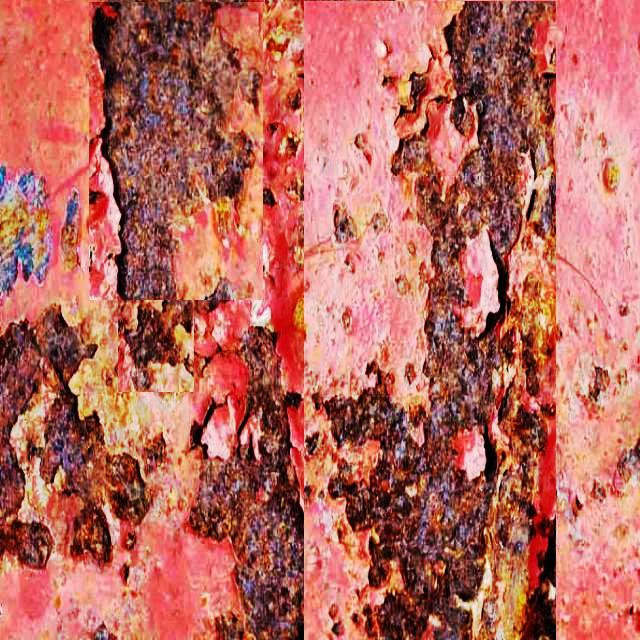Corrosion: (94, 0, 259, 300), (324, 377, 504, 640), (0, 310, 149, 570), (394, 133, 501, 481), (190, 327, 303, 640), (446, 2, 556, 256), (472, 387, 557, 640), (0, 323, 88, 526), (495, 273, 556, 404), (118, 303, 194, 392), (35, 308, 95, 384), (204, 277, 234, 310), (265, 25, 293, 59), (589, 367, 611, 410), (619, 441, 640, 484), (334, 205, 357, 244), (279, 132, 301, 158), (355, 133, 371, 162), (371, 212, 389, 232), (286, 89, 302, 110), (396, 275, 410, 296), (263, 187, 276, 206), (342, 311, 352, 330)
